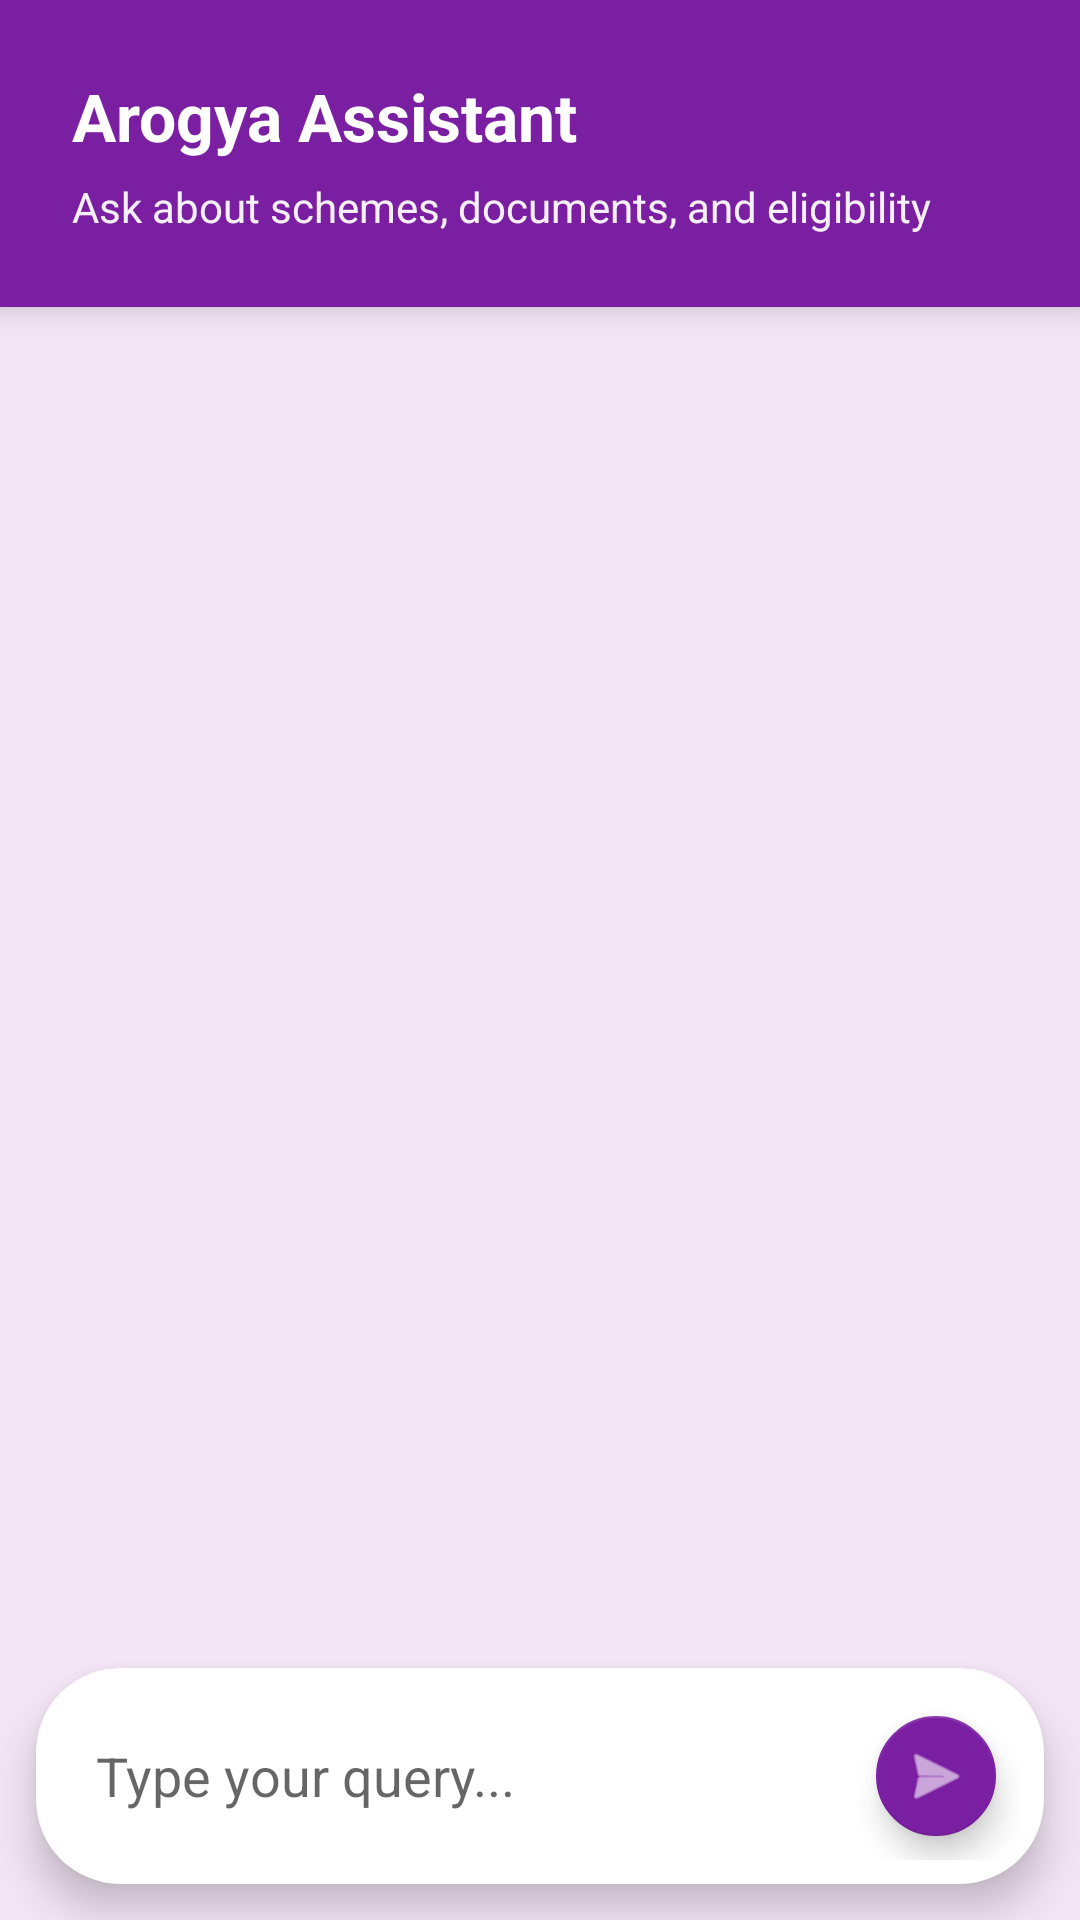

Screen size 1080w x 1920h. Icon name, then its box in pixels as (x1, y1, x2, y2):
send: (876, 1716, 998, 1848)
